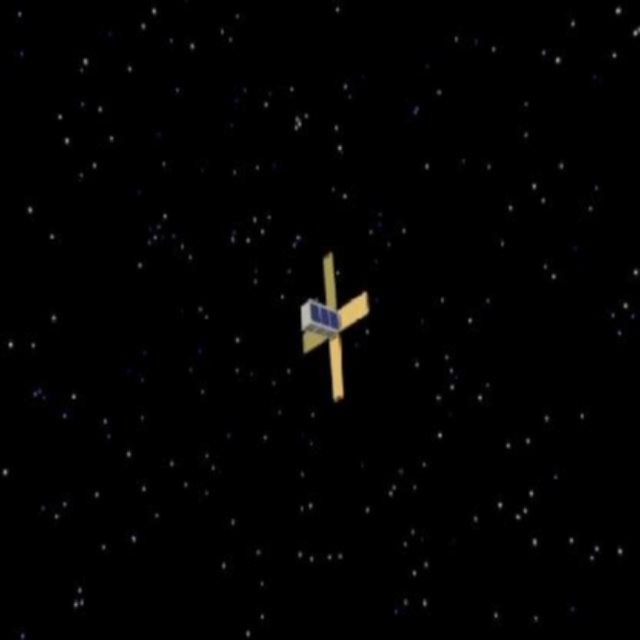satellite: (290, 249, 386, 403)
